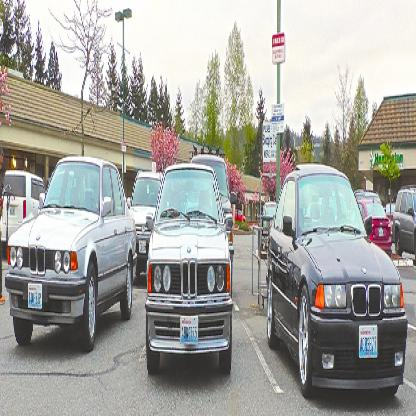Car: (0, 155, 233, 373), (258, 162, 416, 394)
